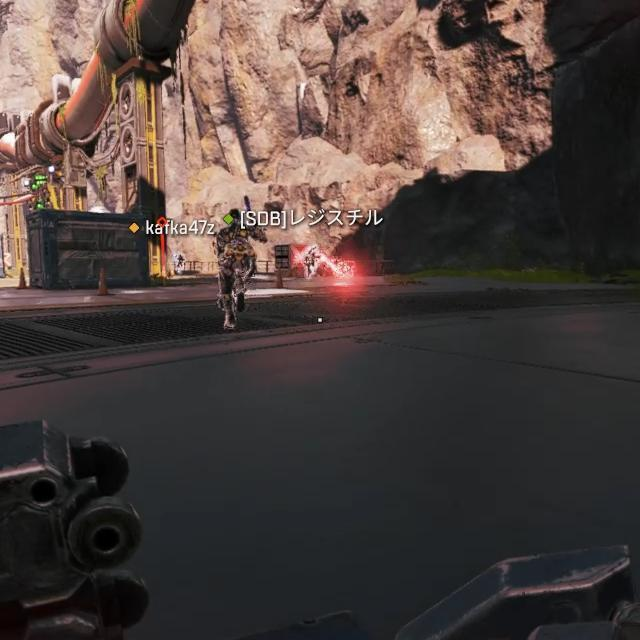avatar: (213, 208, 259, 333)
